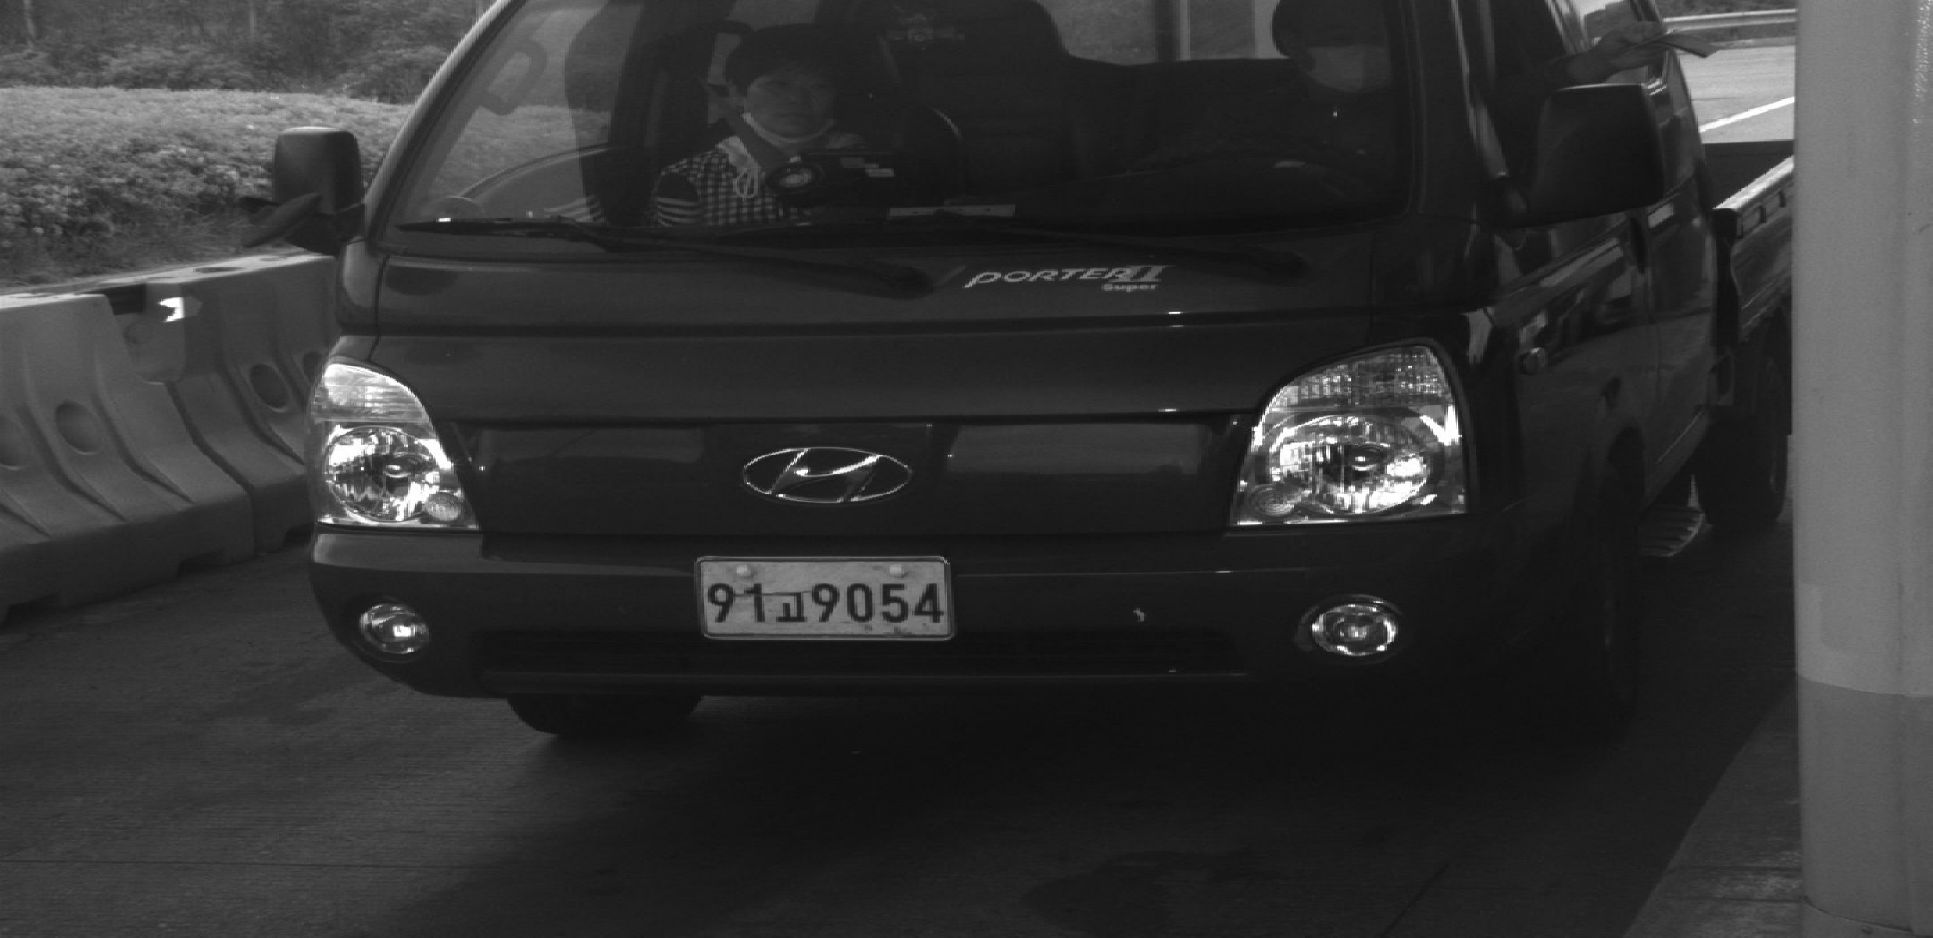car: (241, 2, 1793, 756)
plate: (691, 556, 953, 638)
